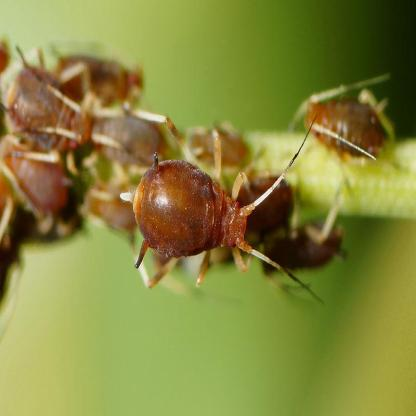aphid: (125, 141, 314, 302), (6, 116, 94, 226), (30, 32, 154, 109), (301, 76, 400, 168), (1, 56, 100, 148), (258, 197, 348, 274), (87, 98, 180, 171), (173, 113, 251, 175)
